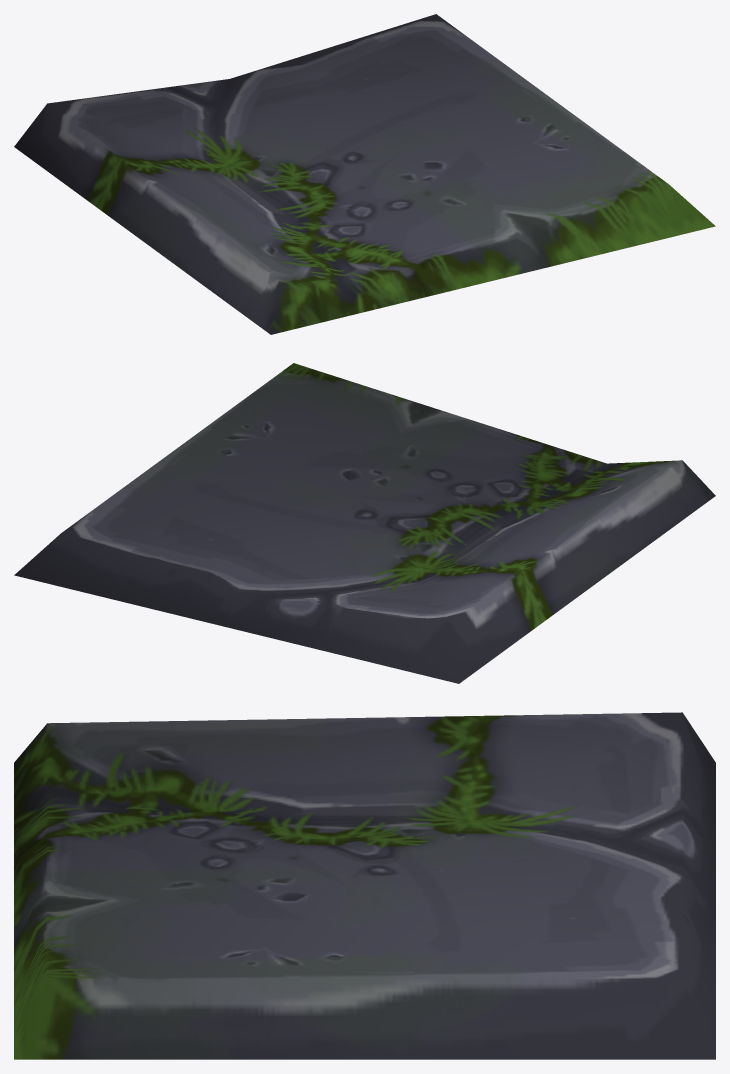
The model's file is MOD_Floor_01_O_singlestone_5.fbx.
3 views of the same model, one above another, from view 1: azimuth 30°, elevation 25°; view 2: azimuth 150°, elevation 25°; view 3: azimuth 270°, elevation 25° (orthographic). The views are drawn at different scales.
Parts seen in each view (by area): view 1: MOD_Floor_01_O_singlestone_5; view 2: MOD_Floor_01_O_singlestone_5; view 3: MOD_Floor_01_O_singlestone_5.
Part boxes in pixels (x1,y1,x2,y2): MOD_Floor_01_O_singlestone_5: [14, 14, 715, 334]; MOD_Floor_01_O_singlestone_5: [14, 363, 715, 683]; MOD_Floor_01_O_singlestone_5: [14, 712, 715, 1059].
Size of the model in its own units: 100 by 10.13 by 100.
